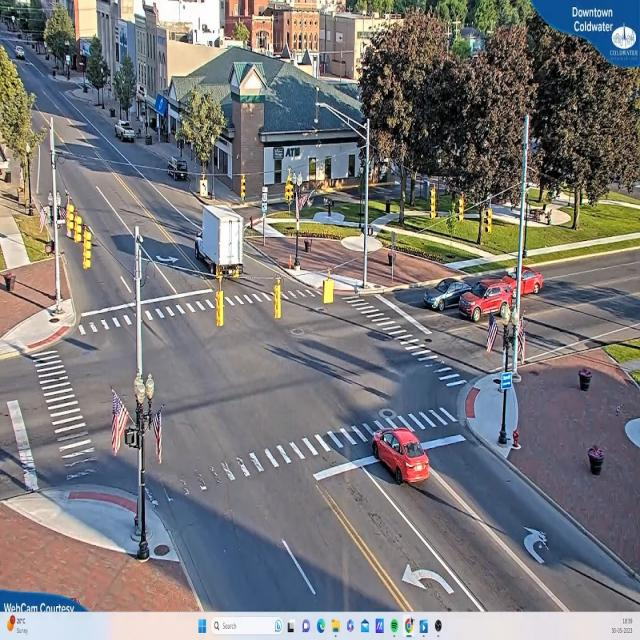car: (373, 430, 431, 489), (458, 274, 514, 329), (423, 276, 464, 314), (507, 262, 542, 301), (164, 158, 190, 180), (116, 122, 136, 143)
truck: (201, 201, 252, 282)
